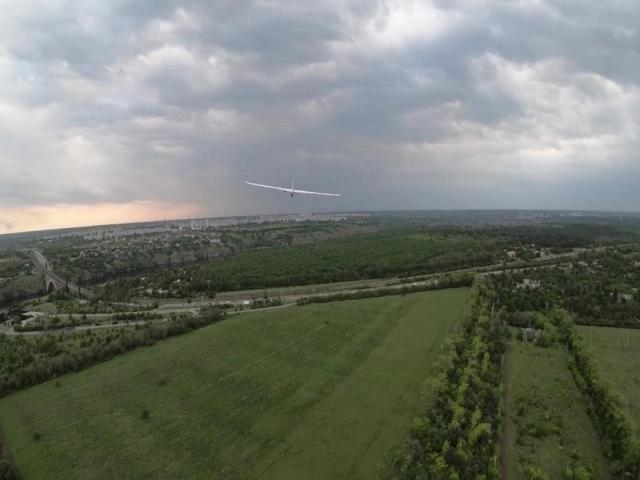hedef: (245, 174, 344, 212)
